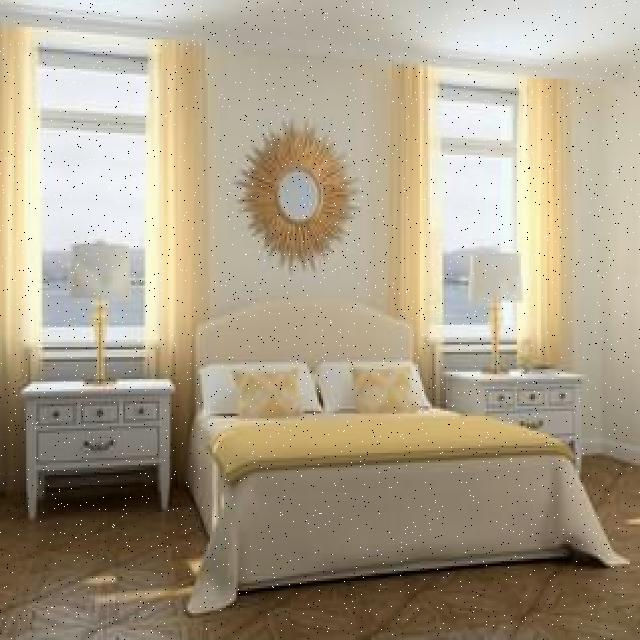bed: (184, 302, 582, 564)
